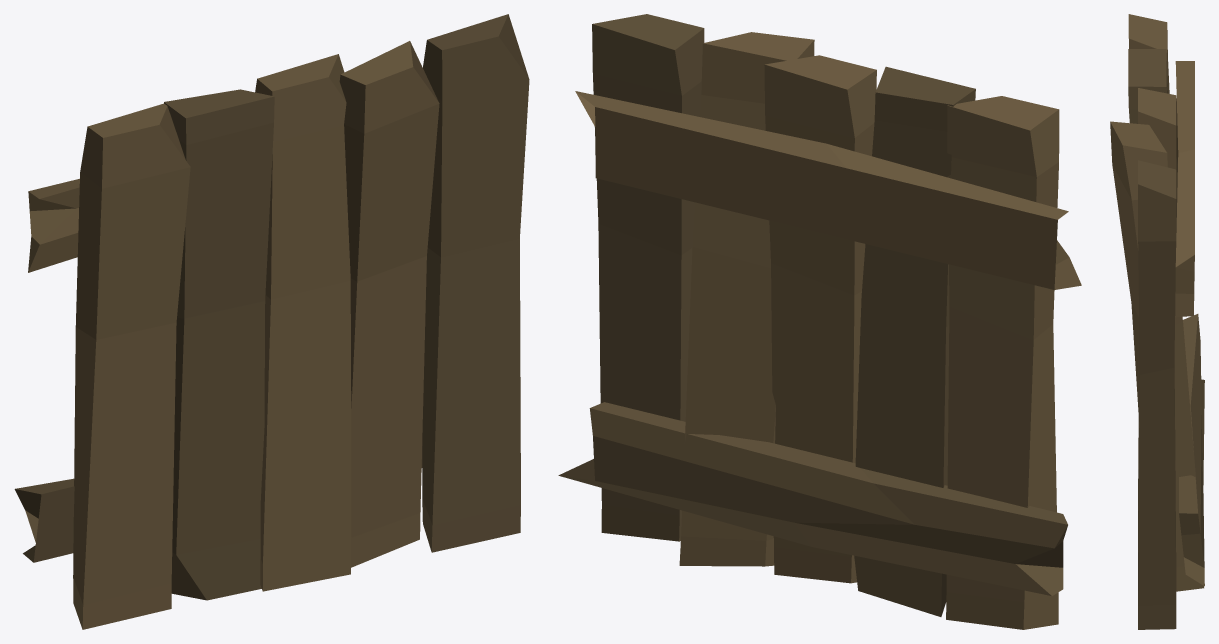
The model's file is roman_window_shutters_2_offset.fbx.
3 renders of one model, left to right at view 1: azimuth 30°, elevation 25°; view 2: azimuth 150°, elevation 25°; view 3: azimuth 270°, elevation 25°, orthographic. The views are drawn at different scales.
Visible parts, largest first — view 1: Cube.075; view 2: Cube.075; view 3: Cube.075.
Part boxes in pixels (x1,y1,x2,y2): Cube.075: (14, 14, 529, 629); Cube.075: (558, 14, 1081, 629); Cube.075: (1110, 14, 1204, 629).
Bounding box in the file's own units: 1.25 × 1.21 × 0.2366.
